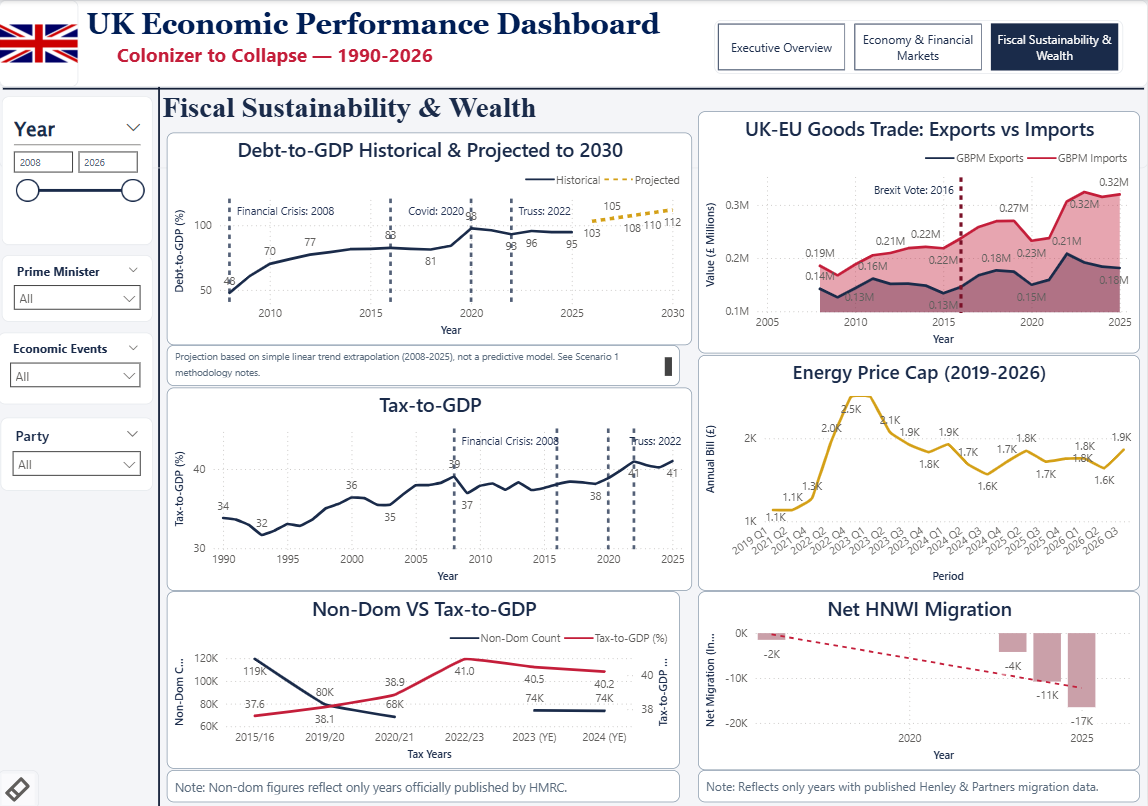

The dashboard page shown, as its layout file describes it:
{"tool":"powerbi","page":{"name":"Fiscal Sustainability & Wealth","canvas":[1280,900],"ordinal":2},"visuals":[{"type":"shape","box":[28.7,96.5,300.1,803.8],"z":0},{"type":"shape","box":[1.5,9,1278.8,177.9],"z":1000},{"type":"slicer","fields":{"Values":["dim_year.year"]},"box":[4.2,106.6,168.3,165.5],"z":2000},{"type":"slicer","fields":{"Values":["uk_decline_db dim_pm.pm_name"]},"box":[4.2,283.3,168.3,74.3],"z":3000},{"type":"slicer","fields":{"Values":["uk_decline_db dim_pm.party"]},"box":[2.8,464.2,169.7,81.3],"z":4000},{"type":"slicer","fields":{"Values":["uk_decline_db dim_event.event_name"]},"box":[0,370.2,172.5,79.9],"z":5000},{"type":"textbox","box":[0,0,1280.3,96.5],"z":6000},{"type":"actionButton","title":"clear","box":[0,856.6,45.2,43.7],"z":7000},{"type":"image","box":[1.5,0,88,97.2],"z":8000},{"type":"pageNavigator","box":[797.8,22.6,455.4,60.3],"z":9000},{"type":"lineChart","title":"Debt-to-GDP Historical & Projected to 2030","fields":{"Y":["Avg(uk_decline_db fact_annual_indicators.debt_to_gdp_pct)","Debt Projection.Projected Debt to GDP"],"Category":["dim_year.year"]},"box":[188.5,147.8,585.1,236.8],"z":10000},{"type":"lineChart","title":"Tax-to-GDP  ","fields":{"Category":["dim_year.year"],"Y":["Sum(uk_decline_db fact_annual_indicators.tax_to_gdp_pct)"]},"box":[188.5,431.3,585.1,226.2],"z":11000},{"type":"lineChart","title":"Non-Dom VS Tax-to-GDP","fields":{"Y":["Sum(uk_decline_db fact_wealth_nondom.non_dom_only_count)"],"Category":["uk_decline_db fact_wealth_nondom.tax_year"],"Y2":["Sum(uk_decline_db fact_wealth_nondom.tax_to_gdp_pct)"]},"box":[188.5,657.5,571.6,197.6],"z":12000},{"type":"lineClusteredColumnComboChart","title":"Net HNWI Migration","fields":{"Category":["uk_decline_db fact_wealth_migration.year"],"Y":["Sum(uk_decline_db fact_wealth_migration.net_hnwi_migration)"]},"box":[779.7,657.5,491.6,199.1],"z":13000},{"type":"lineChart","title":"Energy Price Cap (2019-2026)","fields":{"Y":["Sum(uk_decline_db fact_energy_price_cap.annual_bill_gbp)"],"Category":["uk_decline_db fact_energy_price_cap.period_label"]},"box":[779.7,395.1,491.6,262.4],"z":14000},{"type":"textbox","box":[177.9,96.5,808.3,93.5],"z":15000},{"type":"textbox","box":[188.5,856.6,571.6,36.2],"z":16000},{"type":"areaChart","title":"UK-EU Goods Trade: Exports vs Imports","fields":{"Category":["dim_year.year"],"Y":["Avg(uk_decline_db fact_annual_indicators.eu_exports_gbpm)","Avg(uk_decline_db fact_annual_indicators.eu_imports_gbpm)"]},"box":[779.7,123.7,491.6,269.9],"z":17000},{"type":"textbox","box":[779.7,856.6,491.6,36.2],"z":18000},{"type":"textbox","box":[188.5,384.6,571.6,45.2],"z":19000}]}

Visuals, with their boxes in screenshot pixels (x1, y1, x2, y2), scaled from the page's 1280x900 canvas onto the 1148x806 screenshot:
shape: left=26, top=86, right=295, bottom=805
shape: left=1, top=8, right=1147, bottom=167
slicer - dim_year.year: left=4, top=95, right=155, bottom=244
slicer - uk_decline_db dim_pm.pm_name: left=4, top=254, right=155, bottom=320
slicer - uk_decline_db dim_pm.party: left=3, top=416, right=155, bottom=489
slicer - uk_decline_db dim_event.event_name: left=0, top=332, right=155, bottom=403
textbox: left=0, top=0, right=1147, bottom=86
"clear" actionButton: left=0, top=767, right=41, bottom=805
image: left=1, top=0, right=80, bottom=87
pageNavigator: left=716, top=20, right=1124, bottom=74
"Debt-to-GDP Historical & Projected to 2030" lineChart: left=169, top=132, right=694, bottom=344
"Tax-to-GDP  " lineChart: left=169, top=386, right=694, bottom=589
"Non-Dom VS Tax-to-GDP" lineChart: left=169, top=589, right=682, bottom=766
"Net HNWI Migration" lineClusteredColumnComboChart: left=699, top=589, right=1140, bottom=767
"Energy Price Cap (2019-2026)" lineChart: left=699, top=354, right=1140, bottom=589
textbox: left=160, top=86, right=884, bottom=170
textbox: left=169, top=767, right=682, bottom=800
"UK-EU Goods Trade: Exports vs Imports" areaChart: left=699, top=111, right=1140, bottom=352
textbox: left=699, top=767, right=1140, bottom=800
textbox: left=169, top=344, right=682, bottom=385
